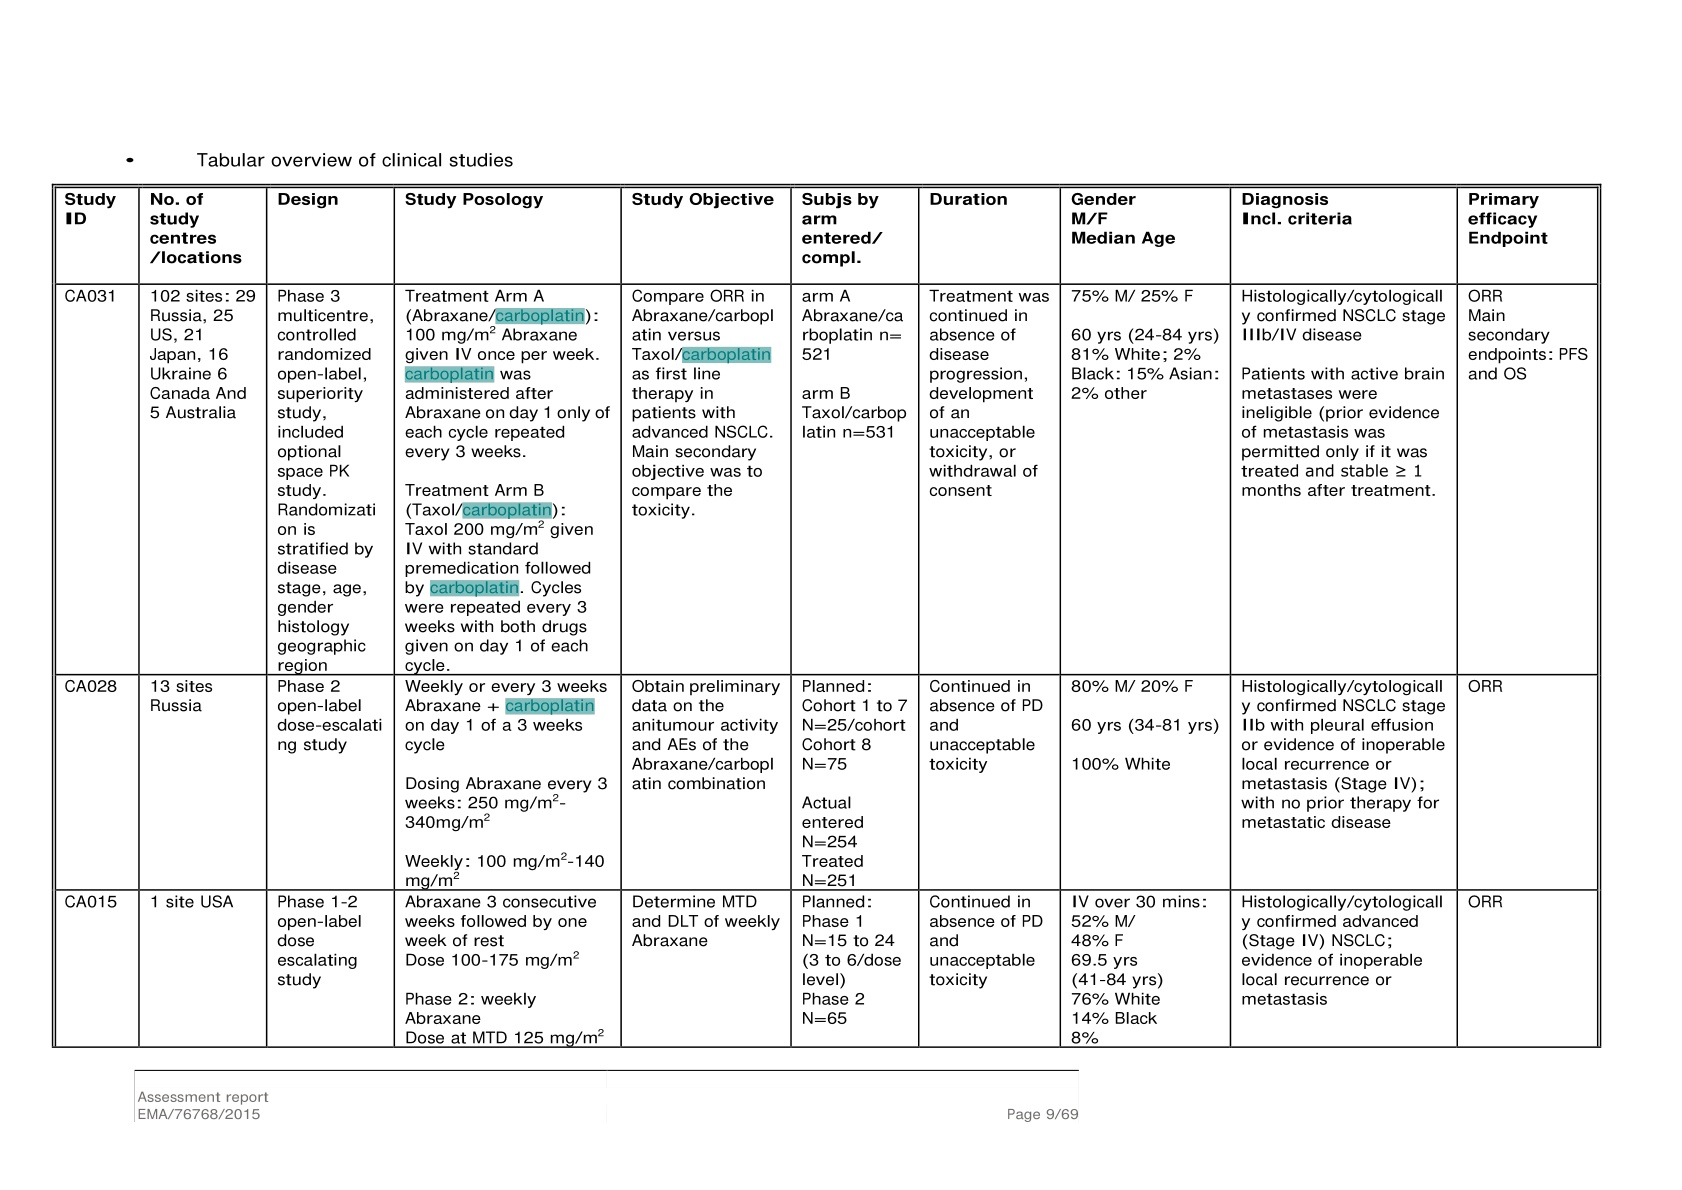full_lined: (50, 182, 1602, 1050)
